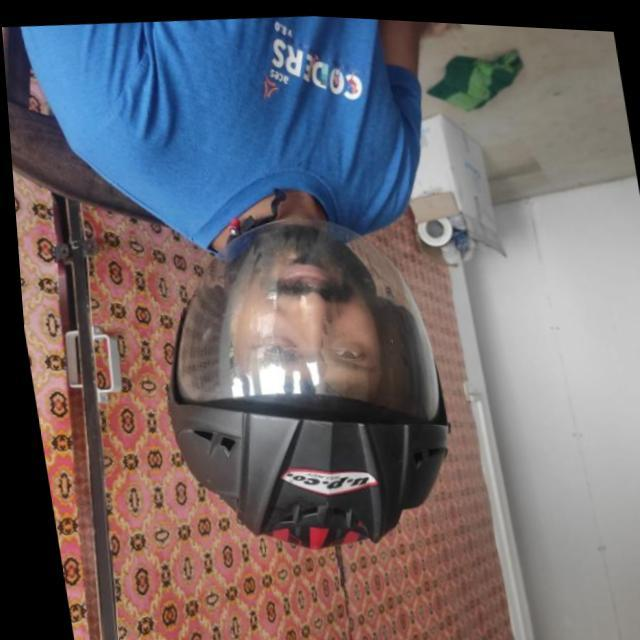with_helmet: (167, 213, 453, 551)
